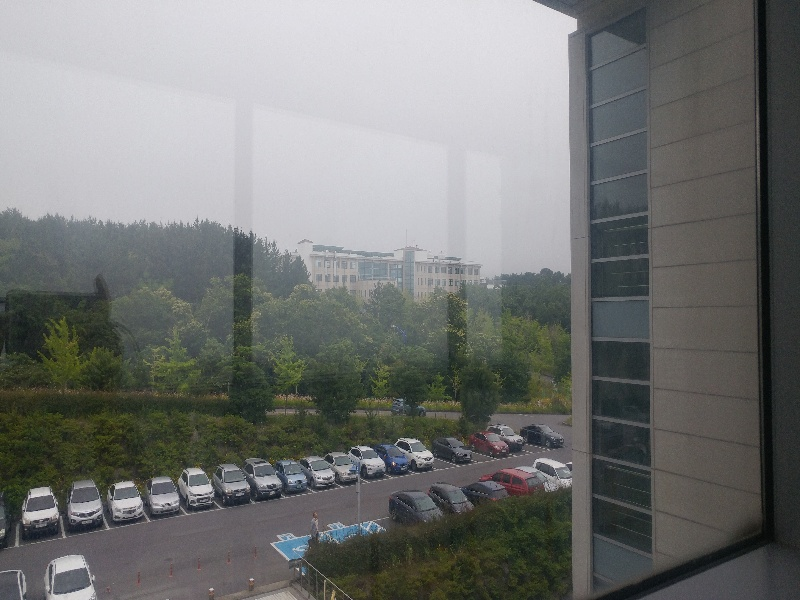College of Medicine: (295, 239, 487, 294), (315, 250, 479, 292)
